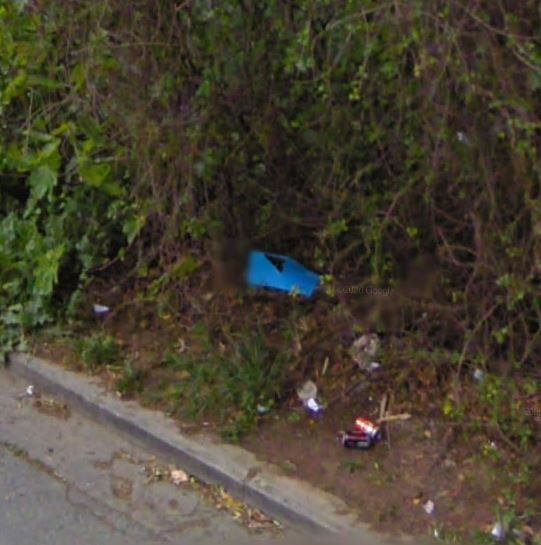trash: (224, 237, 346, 299), (340, 414, 385, 453), (291, 370, 326, 414), (349, 328, 383, 369), (89, 298, 111, 315)
